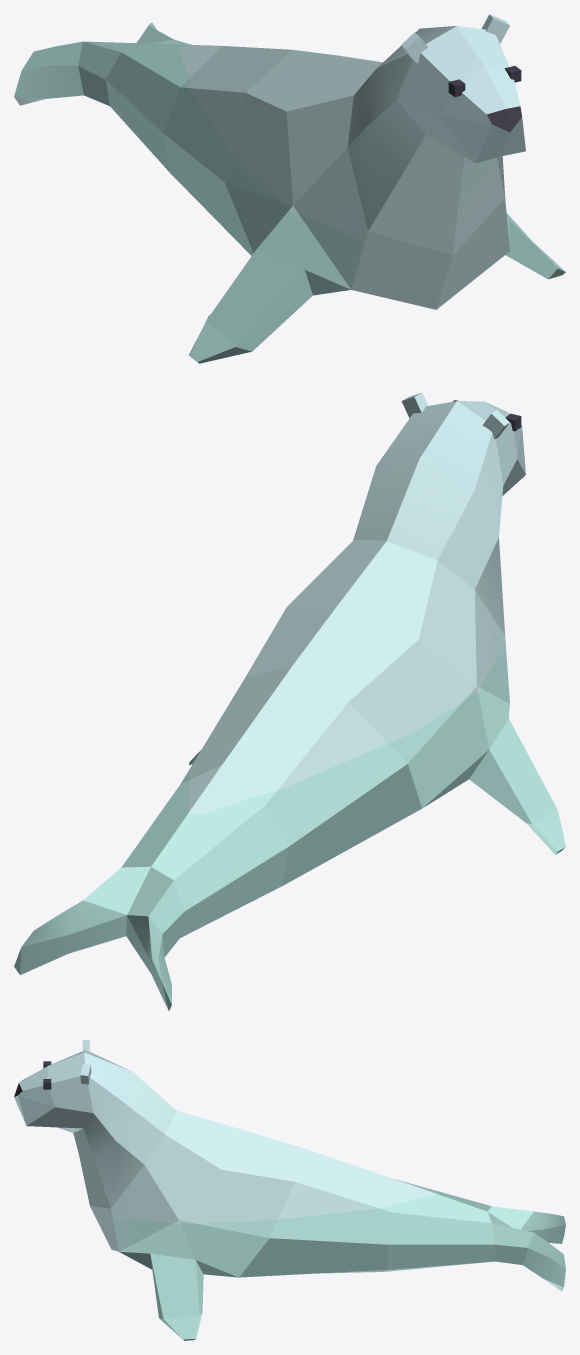
File: SS_Seal.fbx
3 views of the same model, one above another, from view 1: azimuth 30°, elevation 25°; view 2: azimuth 150°, elevation 25°; view 3: azimuth 270°, elevation 25° (orthographic). The views are drawn at different scales.
Visible parts, largest first — view 1: Seal1; view 2: Seal1; view 3: Seal1.
Part boxes in pixels (left/top/right/bottom): Seal1: left=14, top=14, right=565, bottom=363; Seal1: left=14, top=392, right=565, bottom=1010; Seal1: left=14, top=1040, right=565, bottom=1340.
Size of the model in its own units: 1.05 by 0.9498 by 2.06.
1 material, 1 textured.
